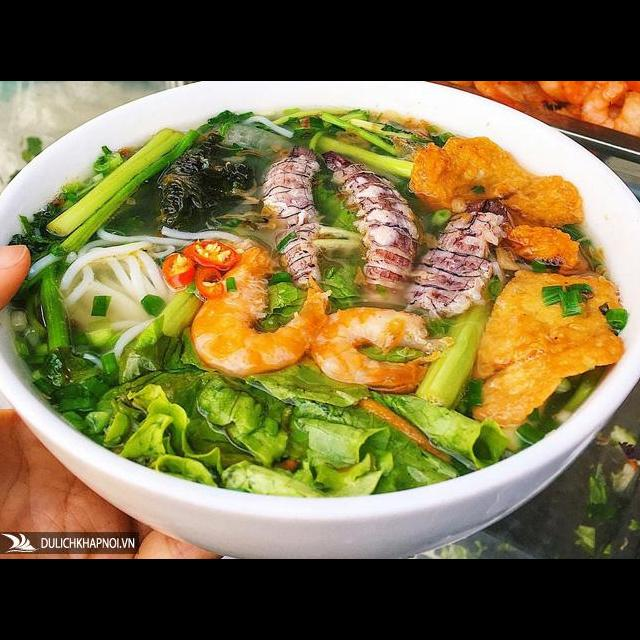bun: (18, 218, 259, 374)
bun hai san: (0, 123, 640, 540)
tom: (186, 239, 335, 384), (304, 303, 457, 398)
tom tit: (316, 146, 427, 319), (395, 193, 515, 329), (257, 142, 333, 297)
